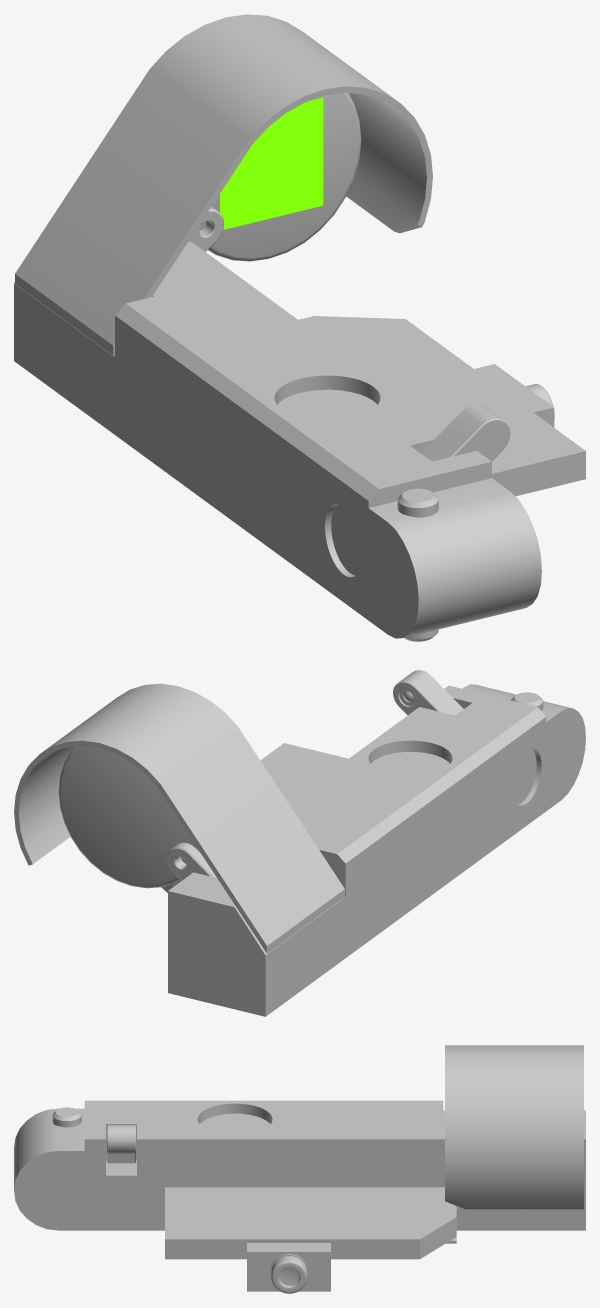
Rendered from okp7.fbx.
3 renders of one model, top to bottom at view 1: azimuth 30°, elevation 25°; view 2: azimuth 150°, elevation 25°; view 3: azimuth 270°, elevation 25°, orthographic. The views are drawn at different scales.
Visible parts, largest first — view 1: okp7, sight; view 2: okp7; view 3: okp7.
Boxes of the visible parts, <box> form: okp7: <box>14,14,585,641</box>; sight: <box>220,97,323,229</box>; okp7: <box>14,670,585,1016</box>; okp7: <box>14,1045,585,1293</box>.
Bounding box in the file's own units: 10.23 × 9.4 × 22.43.
